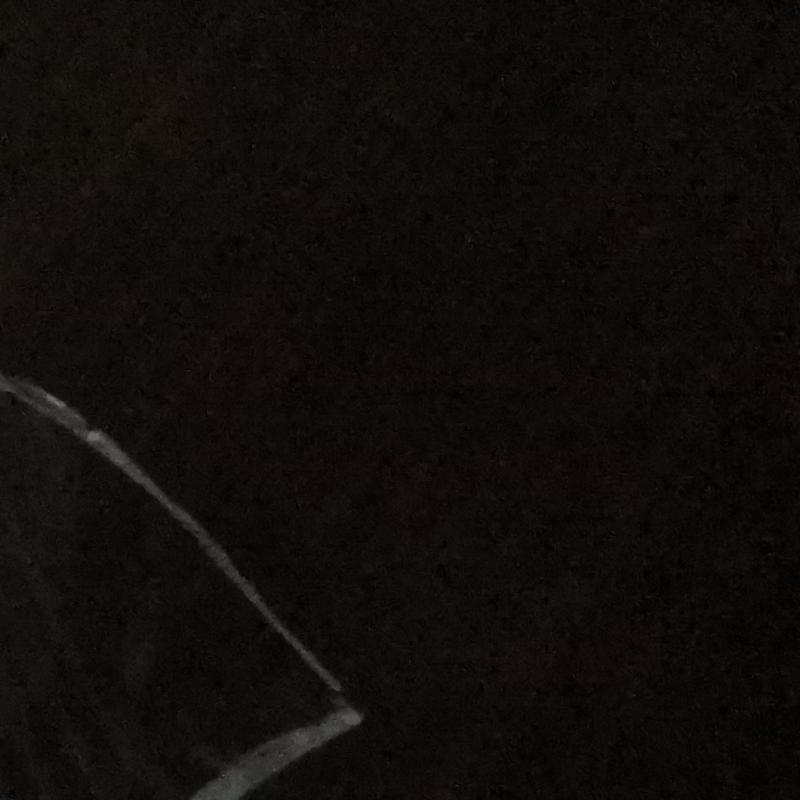glass: (4, 356, 365, 800)
